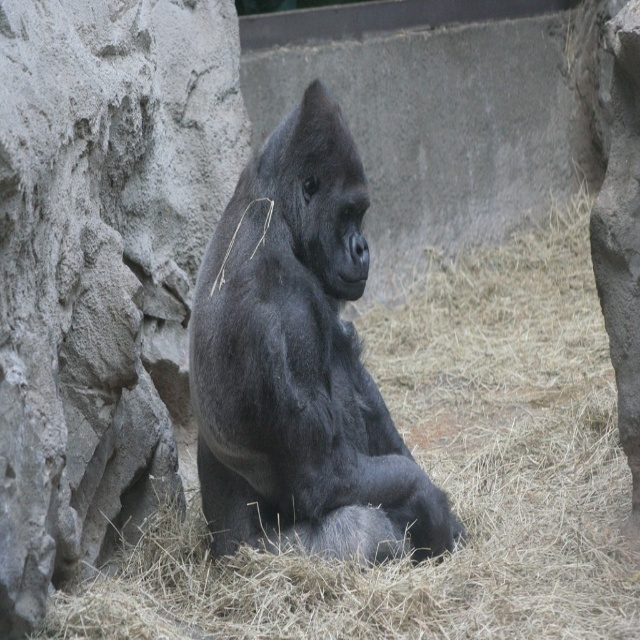Monkey: (184, 68, 438, 595)
